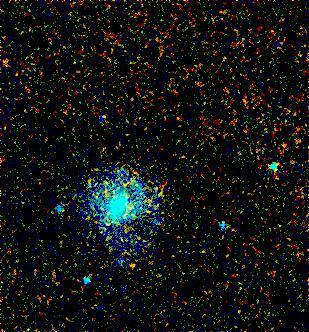star: (118, 250, 148, 280)
